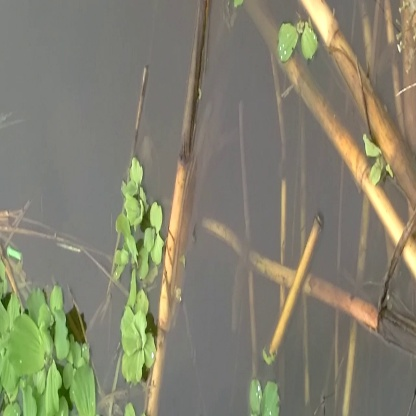branch: (261, 203, 334, 359)
